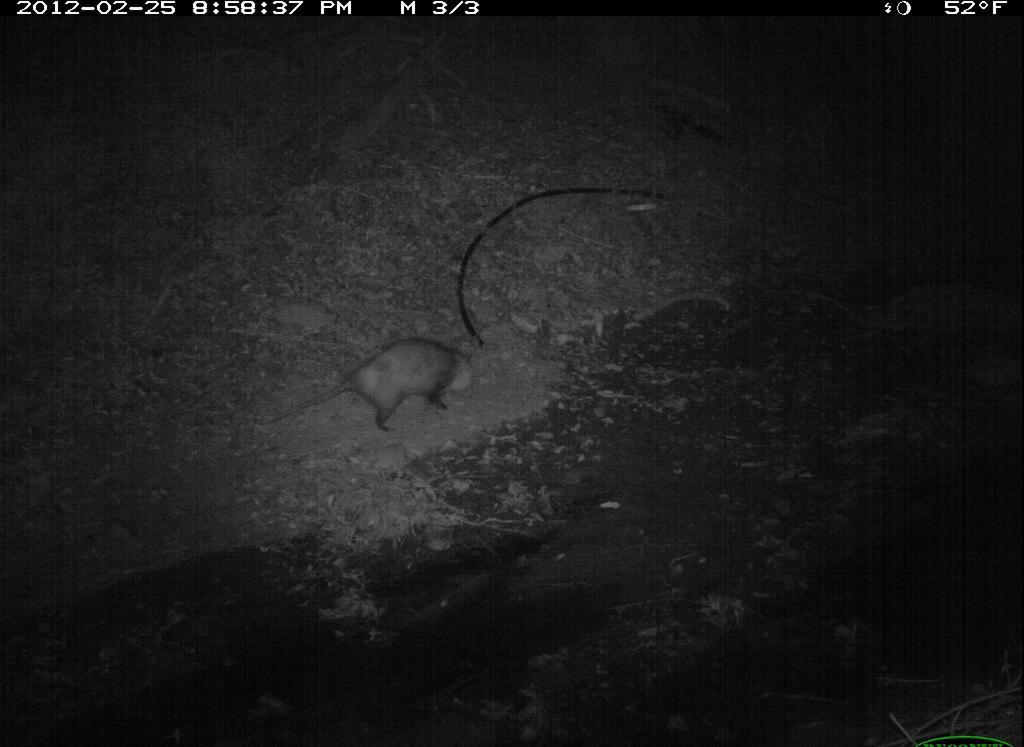opossum: (260, 331, 493, 447)
